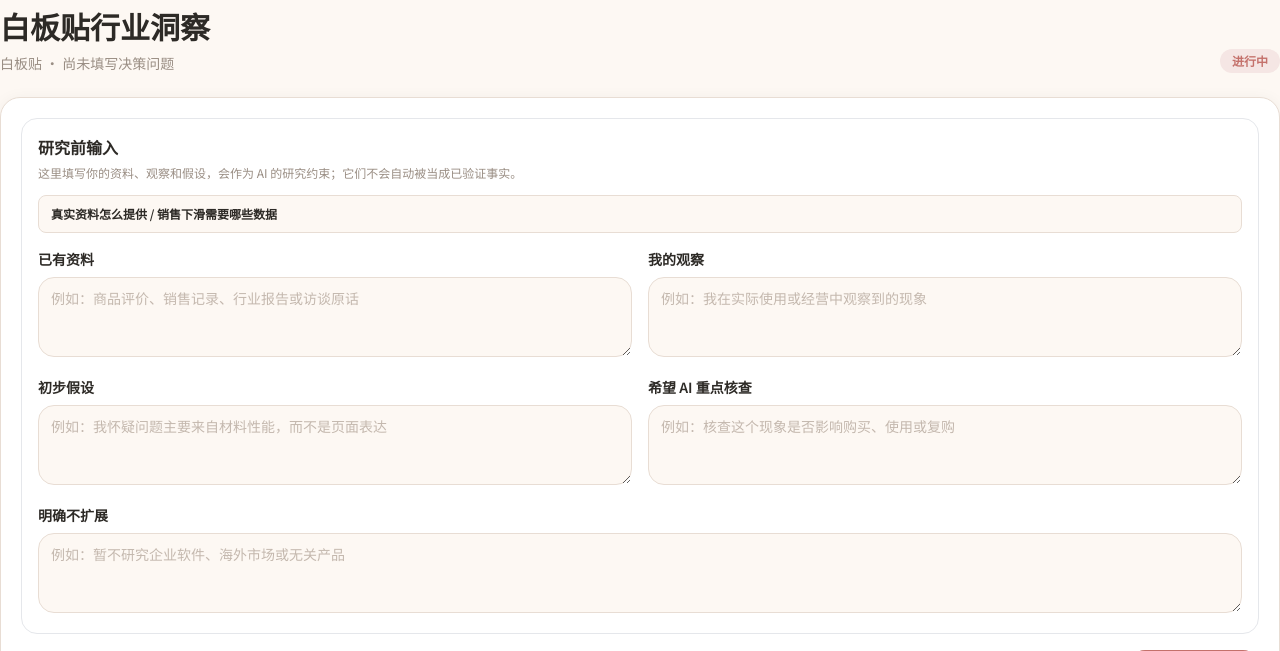
白板贴真实工作区引用链路 › 保存研究前输入后显示已保存反馈
The width and height of the screenshot is (1280, 651).
Type "行业报告" into the text box labelled "已有资料" at (335, 317), box [38,277,632,357]
(page scrolled)
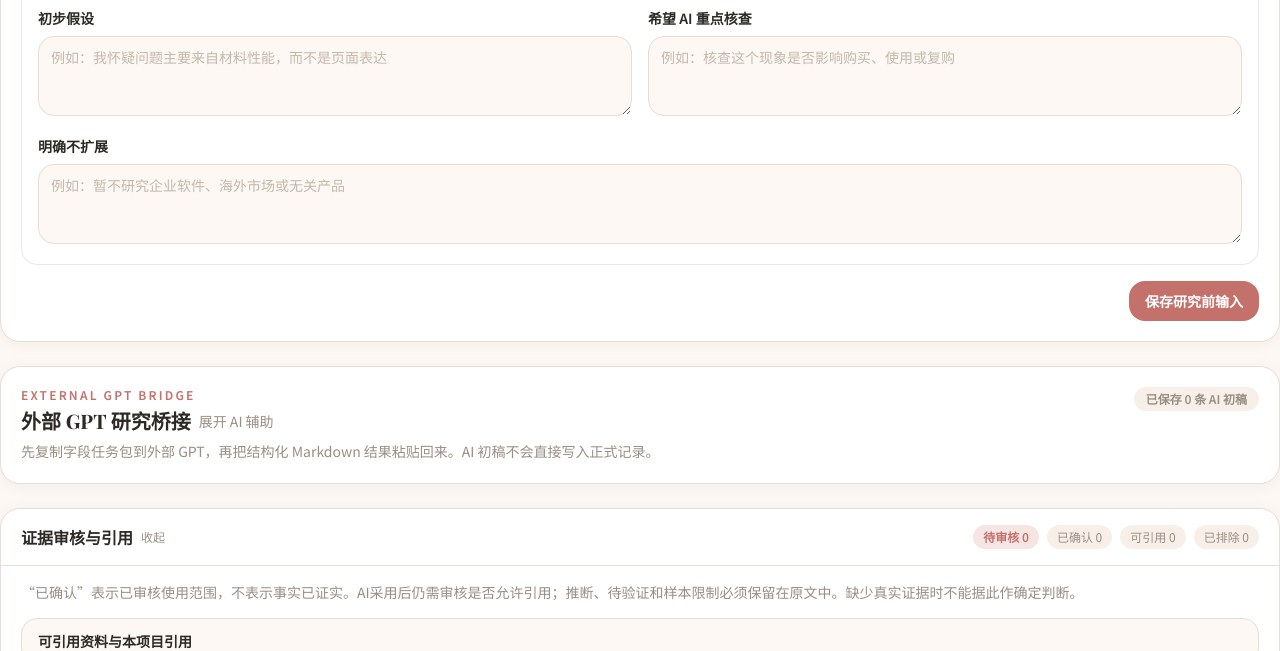
Click the button "保存研究前输入" at (1194, 301), box [1129,281,1259,321]
(page scrolled)
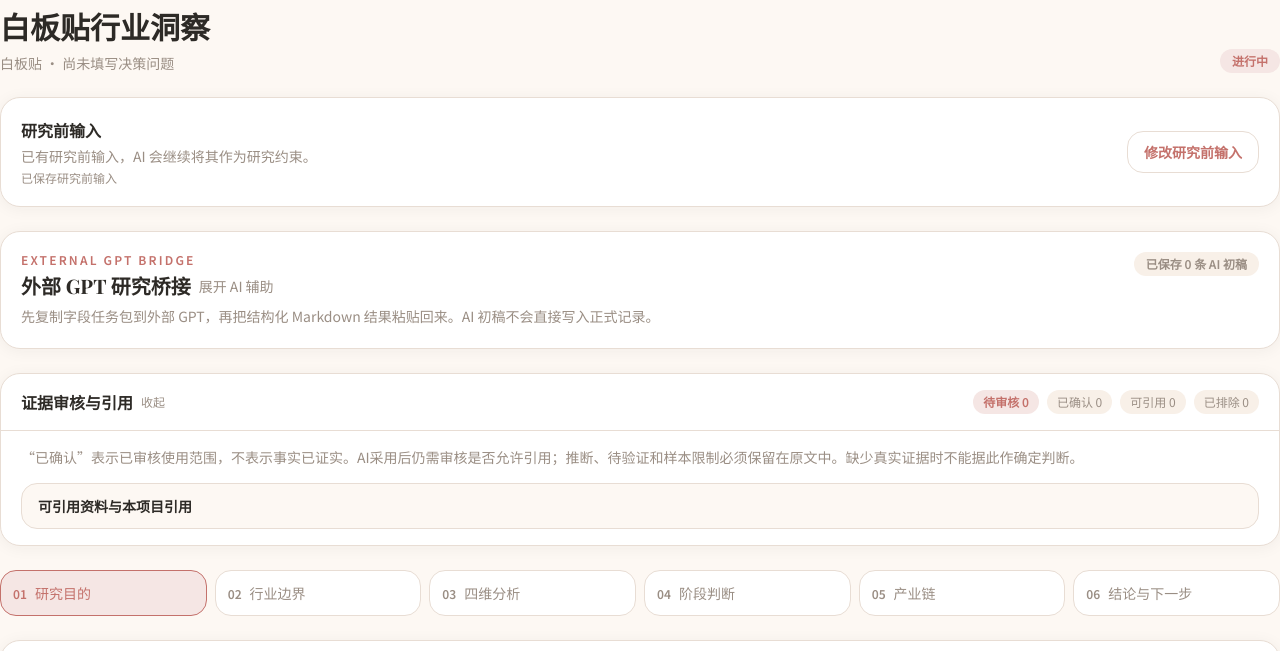
Expected: the message reads "已保存研究前输入", [21,169,117,186]
Expected: the text "已有研究前输入，AI 会继续将其作为研究约束。" is shown, [21,146,317,166]
Expected: the button "修改研究前输入" is shown, [1127,131,1259,173]
